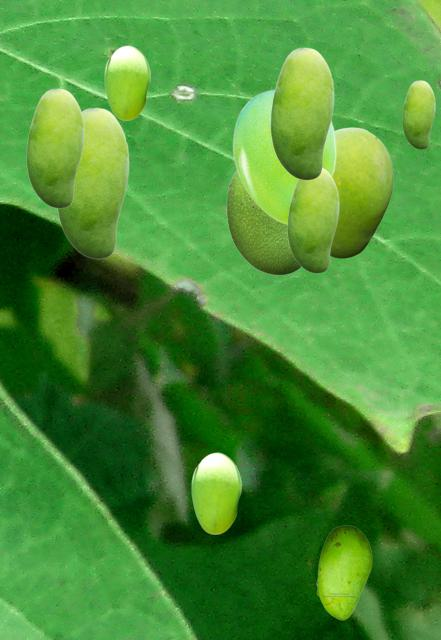green_mango: (232, 89, 335, 224), (57, 107, 128, 258), (270, 47, 333, 179), (331, 127, 392, 257), (226, 170, 300, 274), (26, 88, 83, 207), (287, 167, 338, 272), (316, 525, 371, 619), (191, 452, 240, 533), (104, 45, 149, 119), (402, 80, 434, 148)
